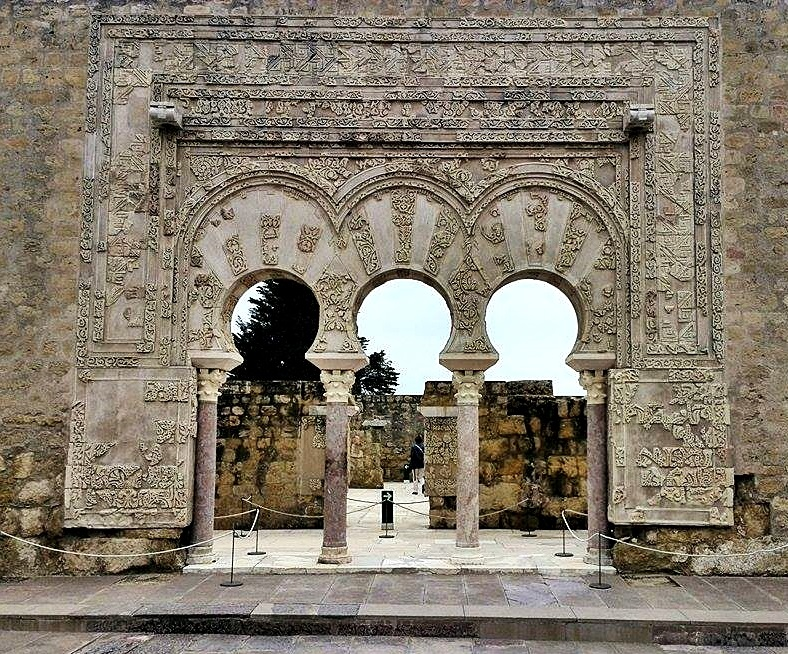arco-herradura: (205, 257, 339, 396), (338, 258, 470, 399), (471, 260, 599, 404)
